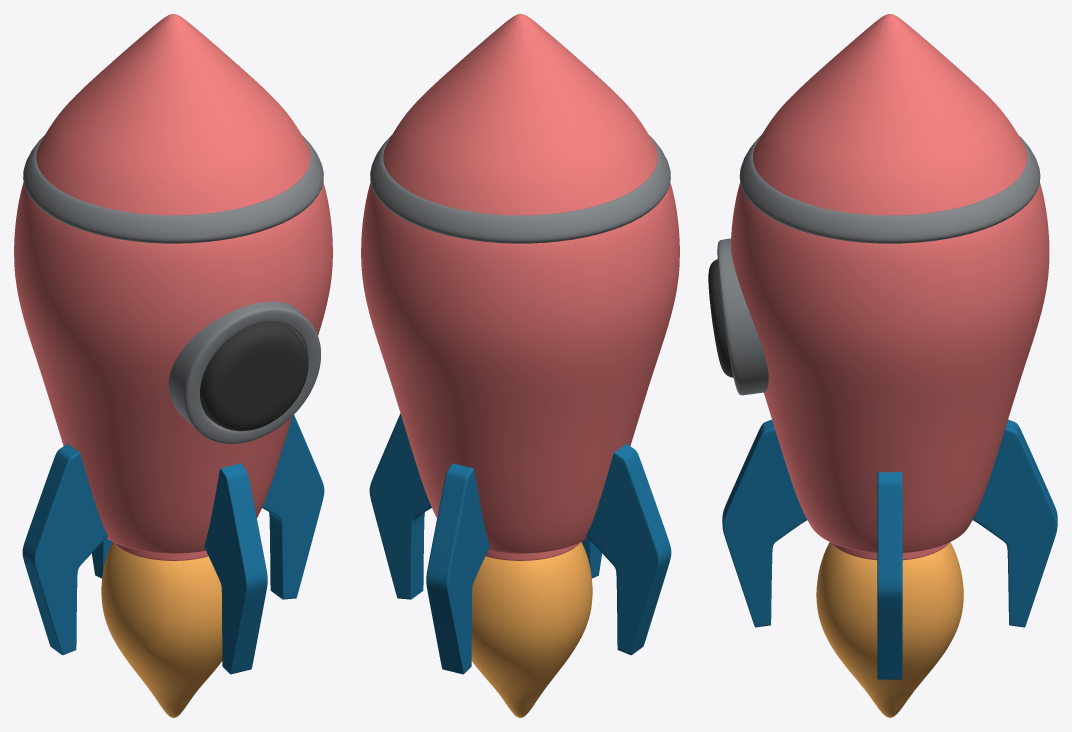
Rendered from rocket.fbx.
The picture shows the model from 3 angles, left to right: view 1: azimuth 30°, elevation 25°; view 2: azimuth 150°, elevation 25°; view 3: azimuth 270°, elevation 25°; orthographic projection.
Parts seen in each view (by area): view 1: Cylinder.009; view 2: Cylinder.009; view 3: Cylinder.009.
Boxes of the visible parts, x1=… form: Cylinder.009: x1=14, y1=14, x2=332, y2=717; Cylinder.009: x1=361, y1=14, x2=679, y2=717; Cylinder.009: x1=708, y1=14, x2=1057, y2=717.
Bounding box in the file's own units: 83.93 × 194 × 87.46.
